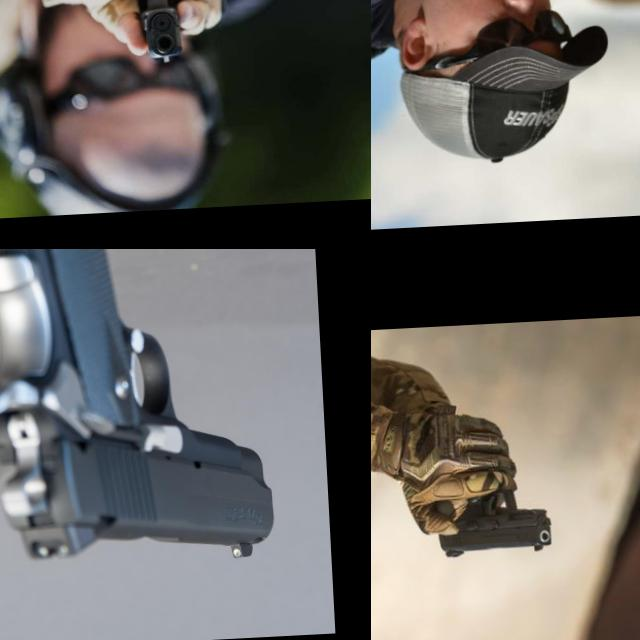handgun: (0, 249, 276, 574), (432, 484, 554, 560), (130, 0, 186, 66)
